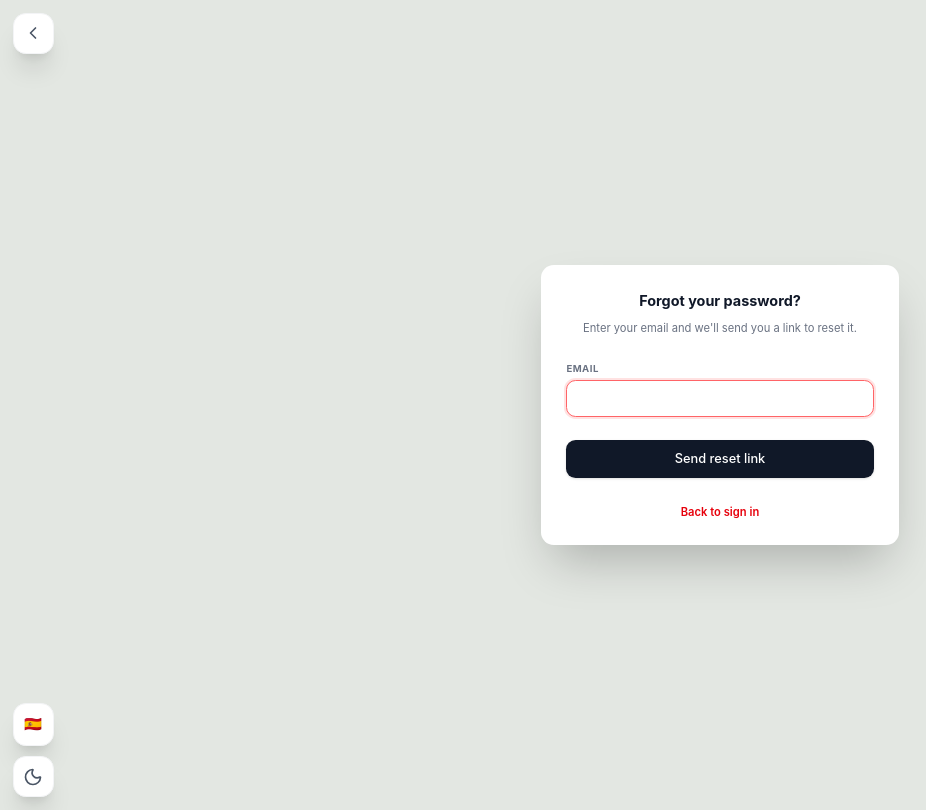
Test case: ForgotPasswordPage › submits the email and shows the generic success state
In the field labelled "Email": (720, 399) [566,380,874,418], type "ana@example.com"
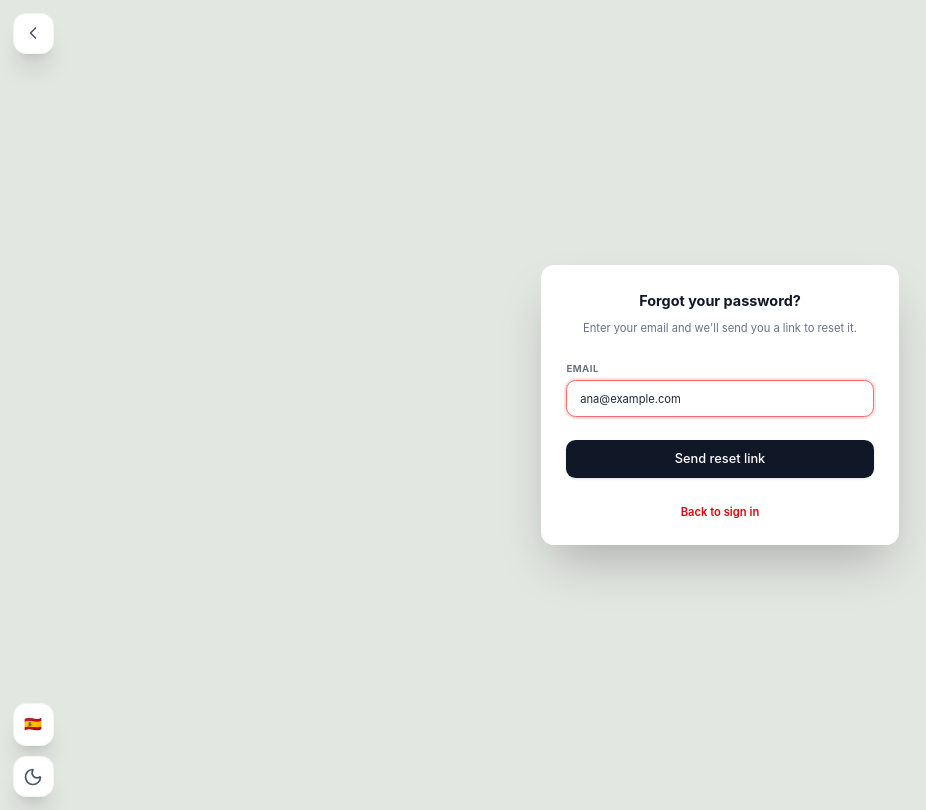
Click the button "Send reset link": click(720, 459) [566,440,874,478]
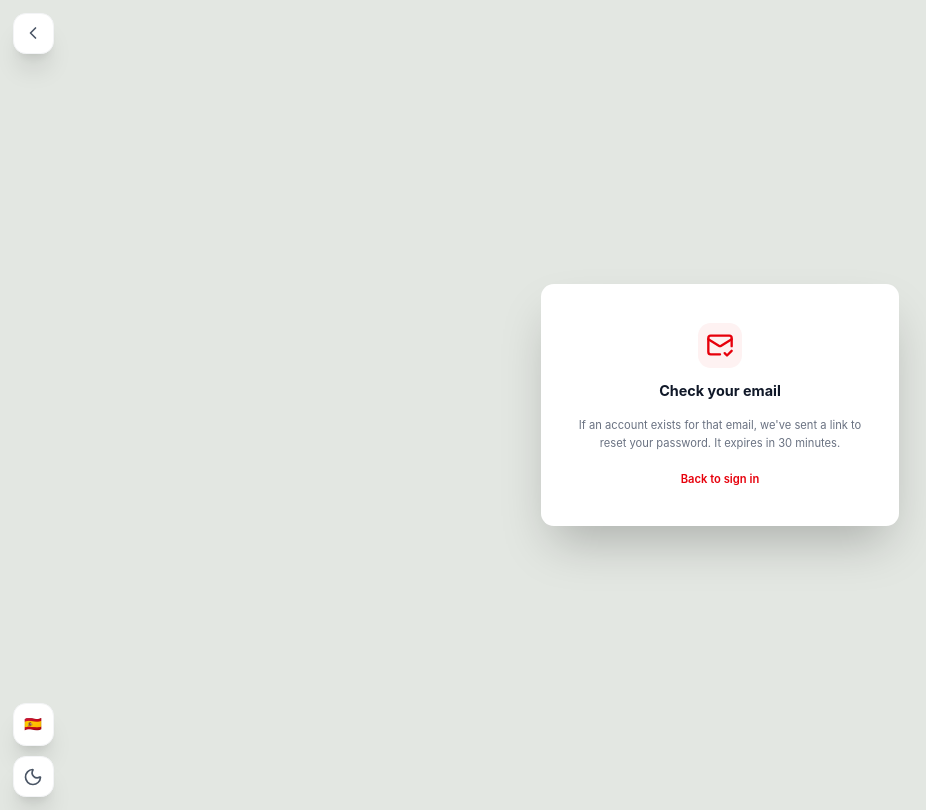
Now the heading "Check your email" is shown, box [659,380,781,403]
